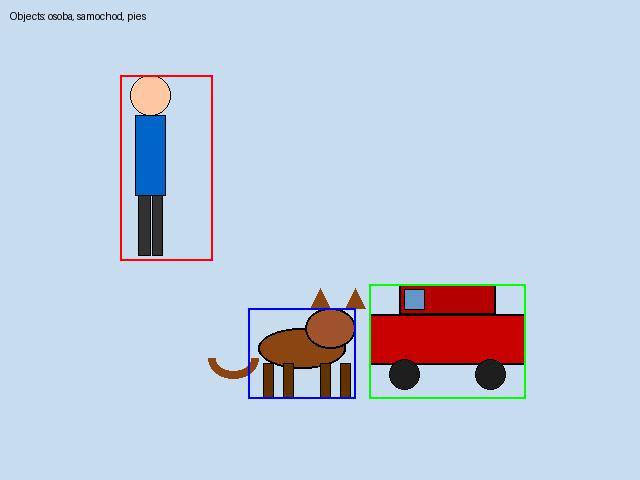osoba: (120, 75, 212, 260)
pies: (248, 308, 355, 398)
samochod: (369, 284, 525, 398)
